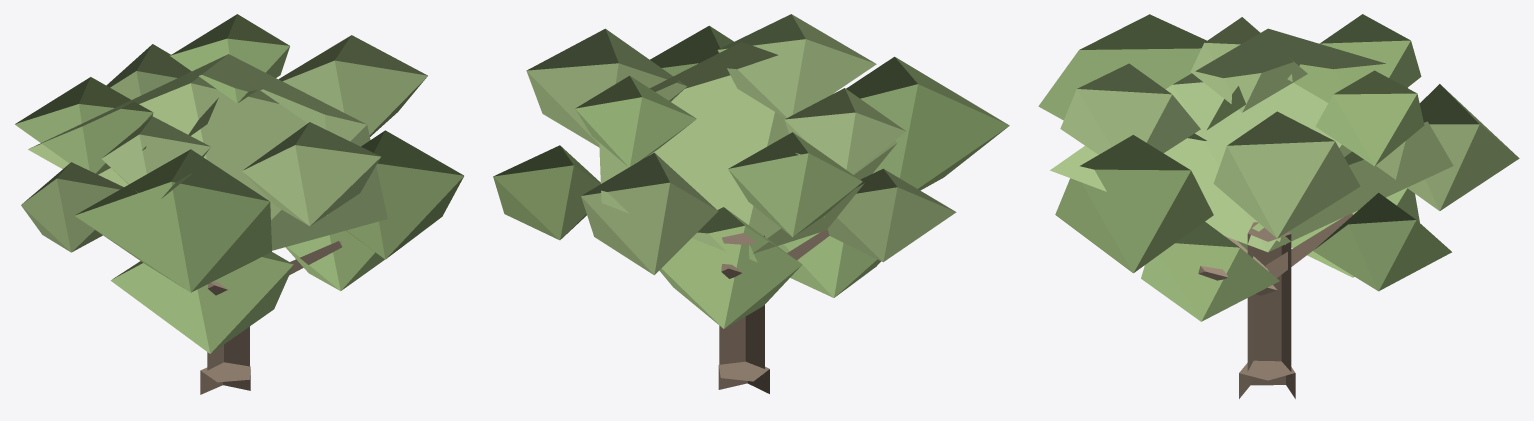
Rendered from tree.temp.willow__spring.glb.
3 views of the same model, side by side, from view 1: azimuth 30°, elevation 25°; view 2: azimuth 150°, elevation 25°; view 3: azimuth 270°, elevation 25° (orthographic). The views are drawn at different scales.
Parts seen in each view (by area): view 1: tree.temp.willow__spring; view 2: tree.temp.willow__spring; view 3: tree.temp.willow__spring.
Boxes of the visible parts, x1,y1,x2,y2 form: tree.temp.willow__spring: (15, 14, 463, 394); tree.temp.willow__spring: (493, 14, 1009, 393); tree.temp.willow__spring: (1038, 14, 1519, 398).
Size of the model in its own units: 12.56 by 10.24 by 12.18.
